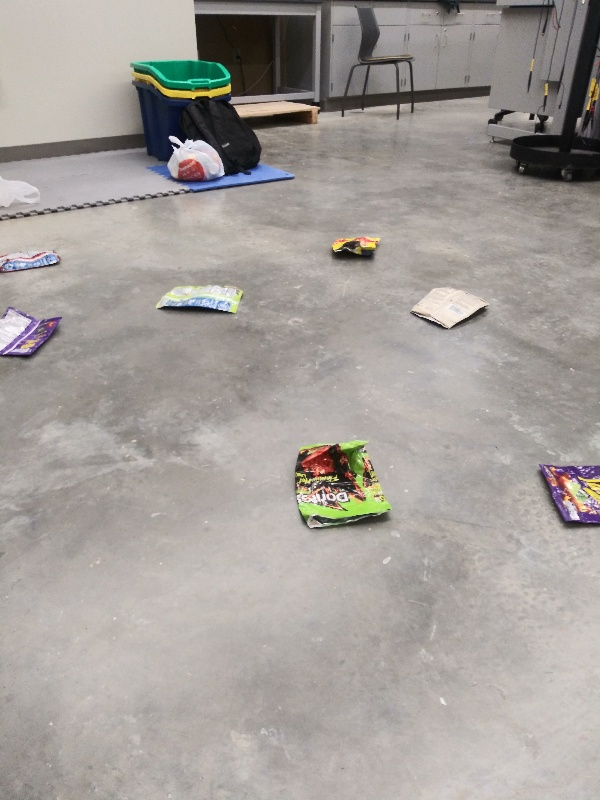bag: (292, 435, 395, 531), (534, 458, 600, 532), (406, 282, 492, 330), (1, 299, 63, 360), (152, 279, 247, 318), (1, 242, 68, 275), (327, 232, 384, 259)
